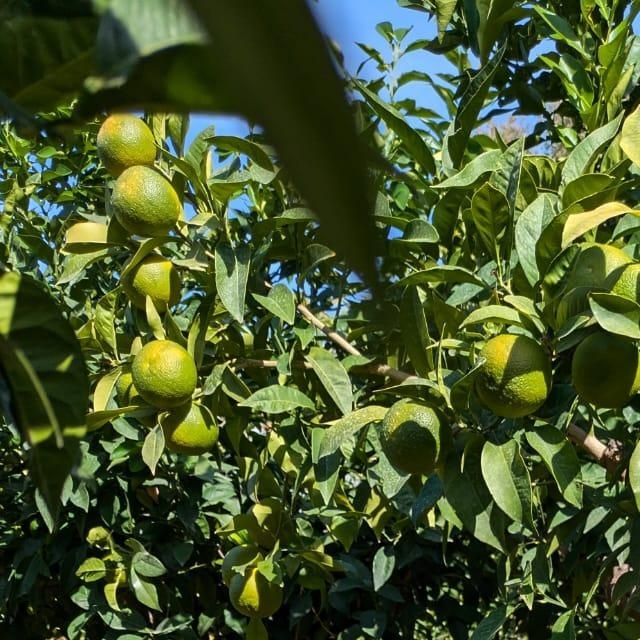orange: (479, 329, 555, 419), (548, 244, 632, 320), (571, 327, 640, 409), (130, 335, 200, 411), (112, 163, 182, 239), (381, 403, 443, 481), (160, 388, 222, 454), (98, 111, 160, 167), (226, 566, 290, 618), (599, 263, 640, 329), (93, 367, 145, 419), (127, 259, 183, 307), (244, 494, 292, 548), (219, 543, 263, 587)
